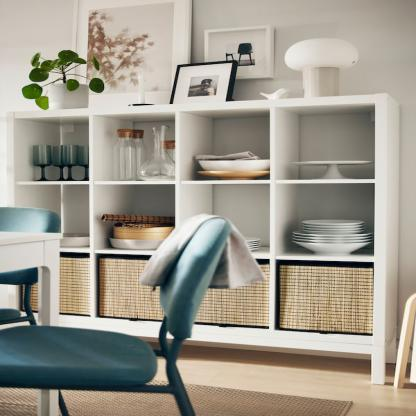lamp: (6, 92, 402, 386)
